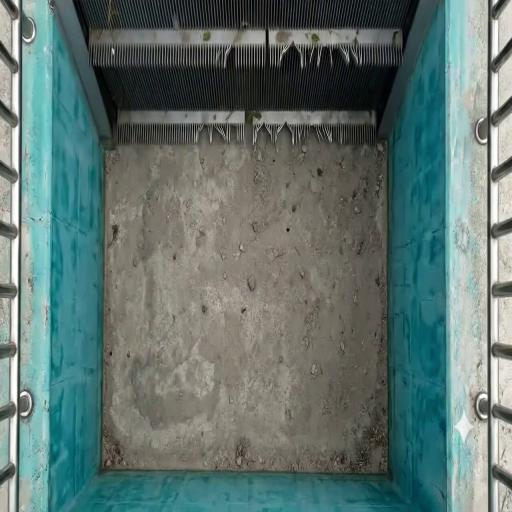rake_broken: (280, 38, 359, 68), (252, 119, 300, 146), (199, 113, 242, 138), (304, 121, 338, 149), (212, 44, 244, 72)
